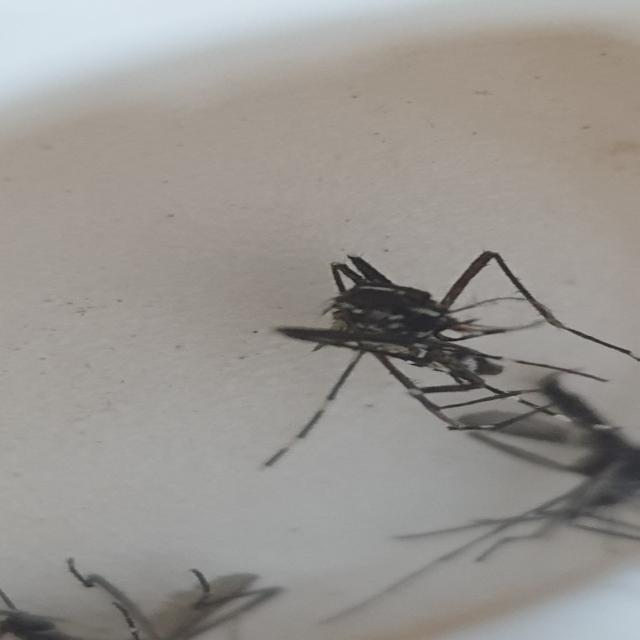albopictus: (243, 227, 640, 490)
